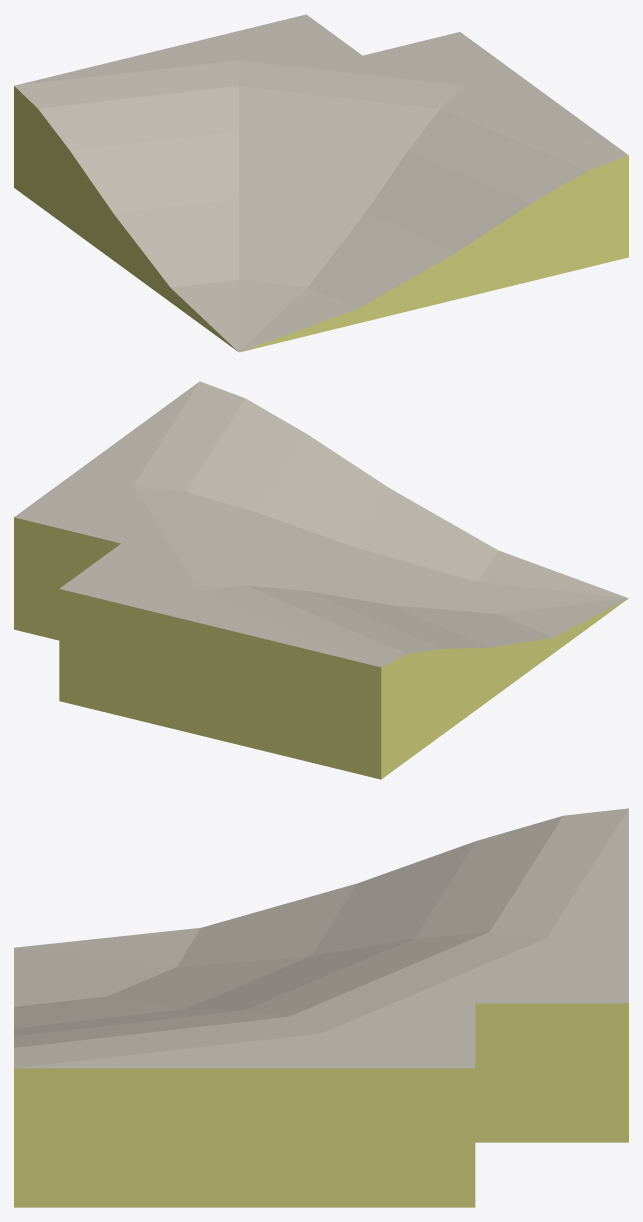
The model's file is Floor_Curve_Inner_4x4.glb.
3 views of the same model, one above another, from view 1: azimuth 30°, elevation 25°; view 2: azimuth 150°, elevation 25°; view 3: azimuth 270°, elevation 25° (orthographic). The views are drawn at different scales.
Visible parts, largest first — view 1: Floor_Curve_Inner_4x4; view 2: Floor_Curve_Inner_4x4; view 3: Floor_Curve_Inner_4x4.
Boxes of the visible parts, bbox=[...] form: Floor_Curve_Inner_4x4: bbox=[14, 14, 628, 352]; Floor_Curve_Inner_4x4: bbox=[14, 381, 628, 779]; Floor_Curve_Inner_4x4: bbox=[14, 808, 628, 1207].
Size of the model in its own units: 400 by 100 by 400.
